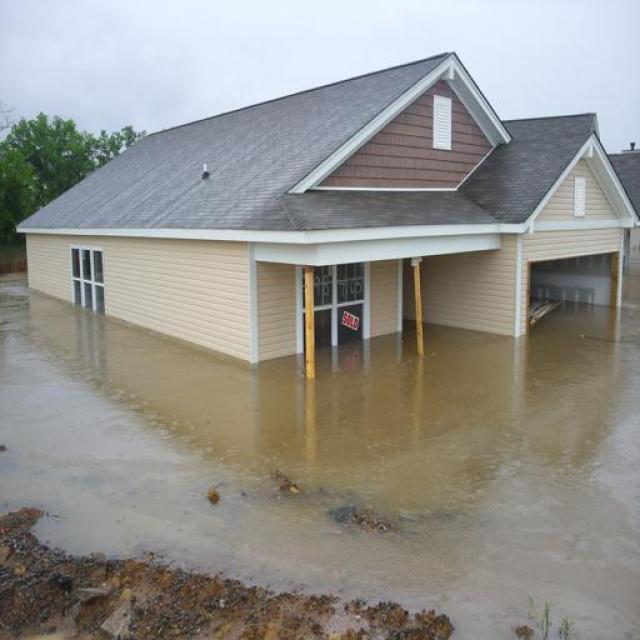puddle: (20, 343, 634, 613), (3, 295, 92, 546)
